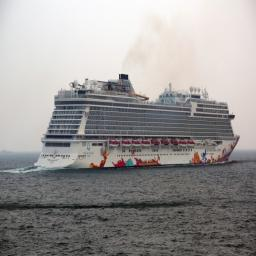cruises: (35, 63, 241, 171)
